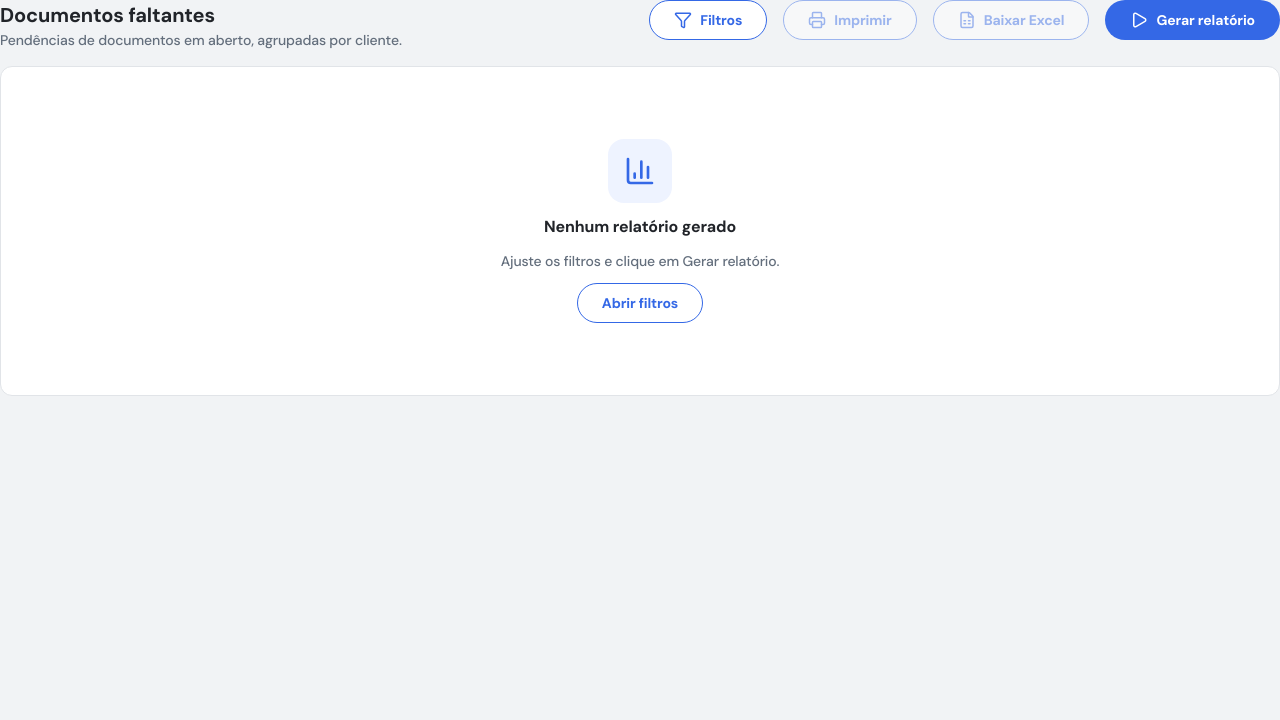
Test: relatórios gerais: paginação e impressão › Documentos faltantes: pagina por cliente (cada cliente com todos os seus documentos)
Step 1. Click the button "Gerar relatório" → (1193, 20), box [1105,0,1279,40]
(page scrolled)
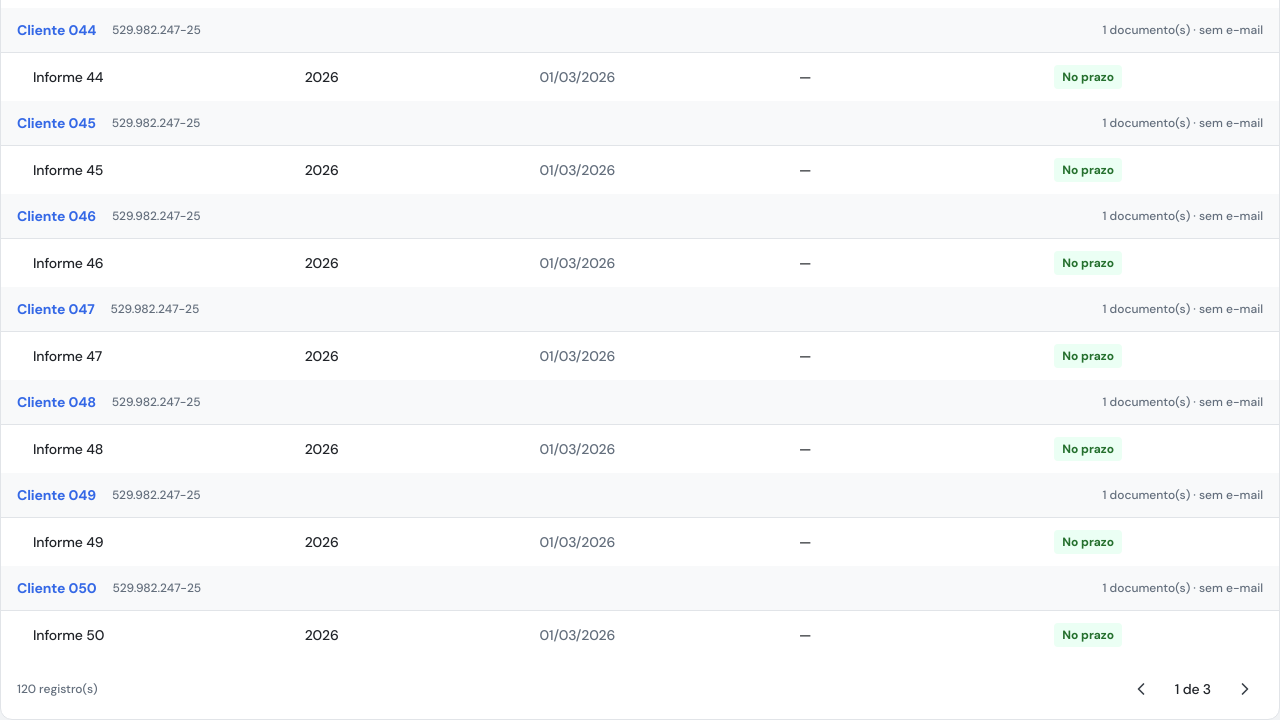
Expected: the text "Informe 51" is not shown
Result: the text "Informe 50" is shown at [1,610,289,659]
Step 2. Click the button named "Próxima página" → (1245, 689), box [1227,671,1263,707]
(page scrolled)
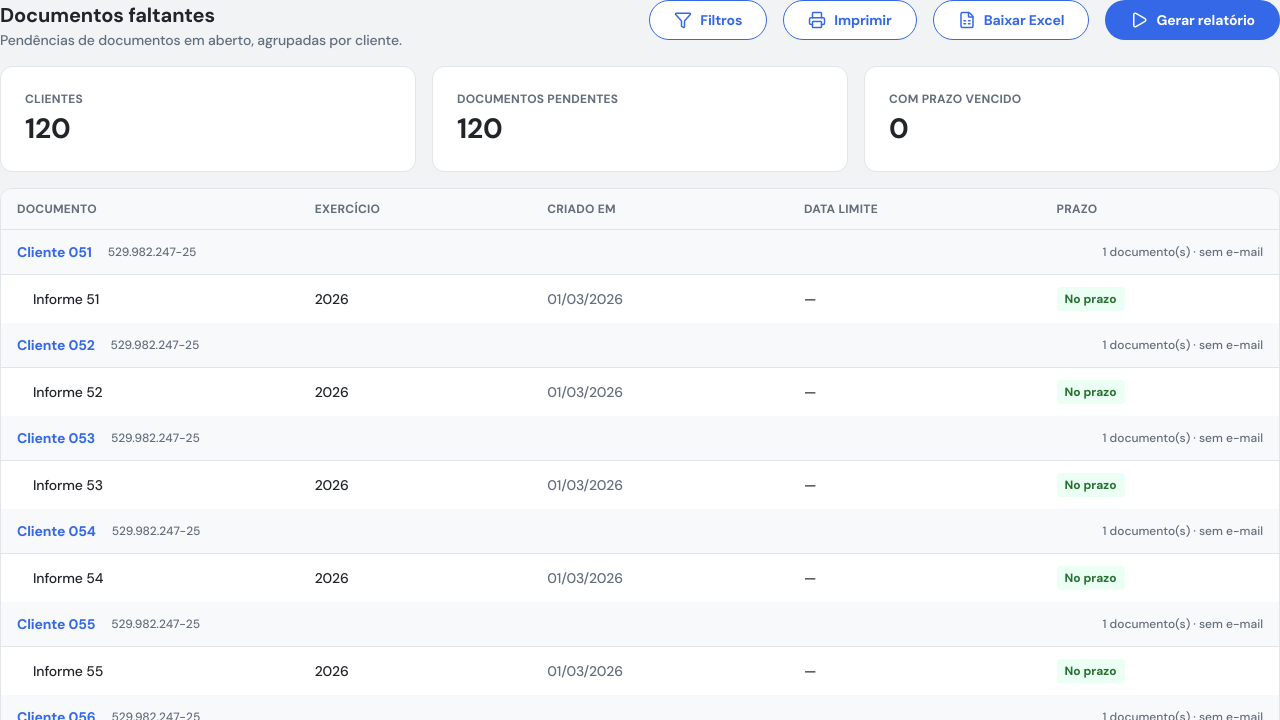
Result: the text "Informe 51" is shown at [1,274,299,323]
